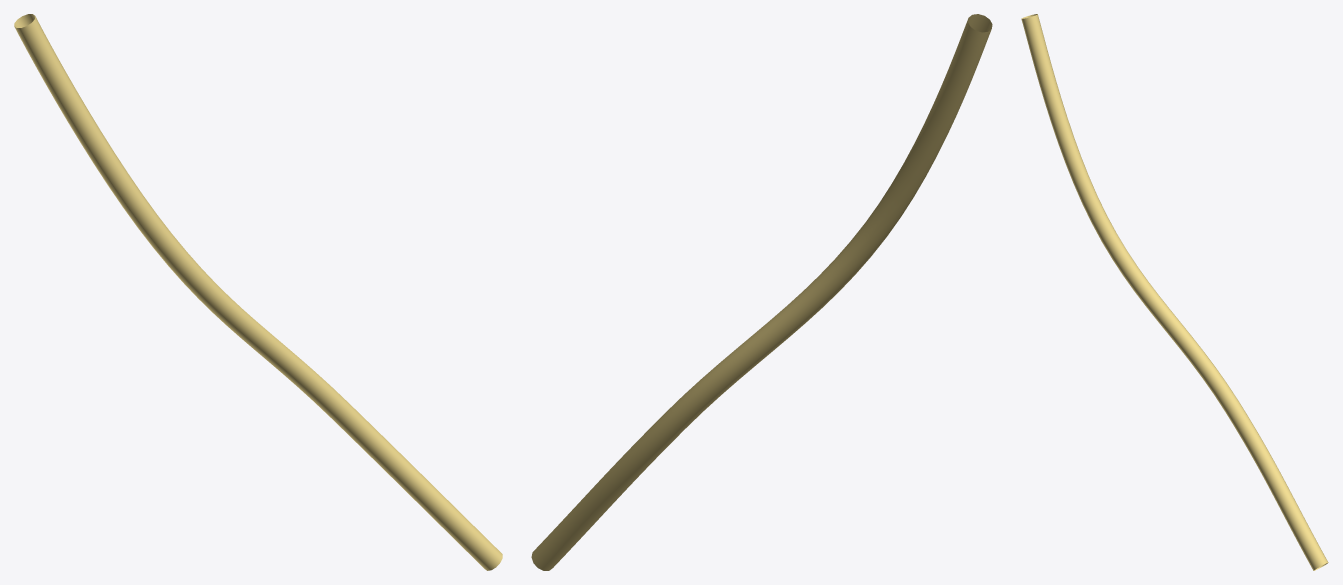
3 renders of one model, left to right at view 1: azimuth 30°, elevation 25°; view 2: azimuth 150°, elevation 25°; view 3: azimuth 330°, elevation 25°, orthographic. The views are drawn at different scales.
Visible parts, largest first — view 1: ZA_0a2883a31ef69f3a; view 2: ZA_0a2883a31ef69f3a; view 3: ZA_0a2883a31ef69f3a.
Boxes of the visible parts, x1,y1,x2,y2 form: ZA_0a2883a31ef69f3a: (14, 14, 502, 570); ZA_0a2883a31ef69f3a: (531, 14, 992, 570); ZA_0a2883a31ef69f3a: (1021, 14, 1328, 570).
Size of the model in its own units: 0.0221 by 0.0296 by 0.00396.
